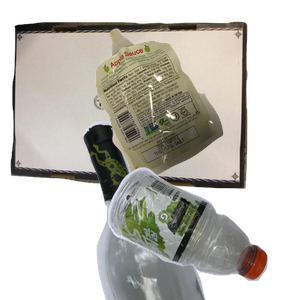cardboard: (10, 19, 250, 199)
glass: (81, 120, 300, 300)
plastic: (105, 165, 300, 300)
trash: (93, 26, 300, 200)
